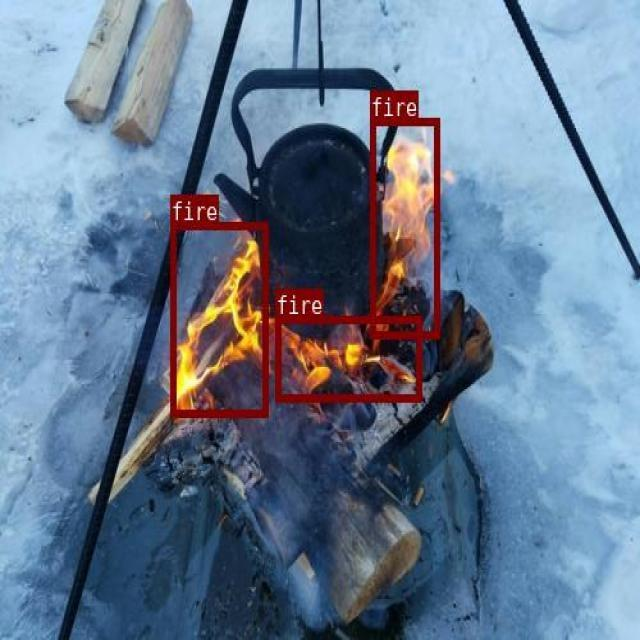fire: (170, 221, 267, 416), (370, 117, 438, 337), (275, 315, 421, 401)
